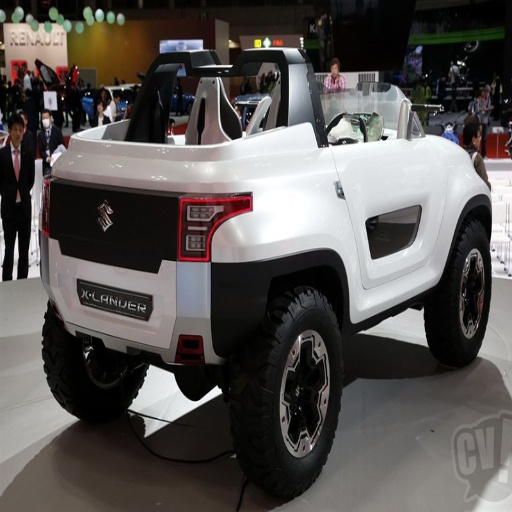back_bumper: (95, 313, 238, 363)
back_glass: (108, 65, 220, 144)
back_right_light: (180, 195, 252, 261)
trunk: (54, 146, 207, 329), (227, 277, 266, 346), (423, 418, 457, 483)
